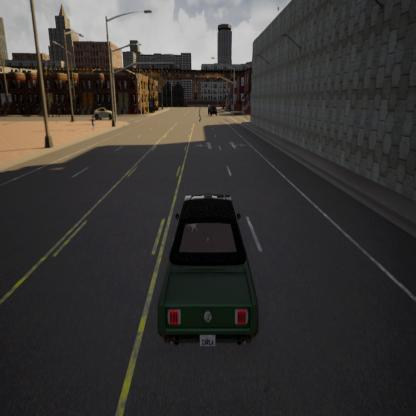Cars: (157, 192, 258, 357), (92, 105, 115, 118), (206, 101, 218, 119)
Pedestrian: (89, 114, 96, 130), (197, 102, 202, 124)
